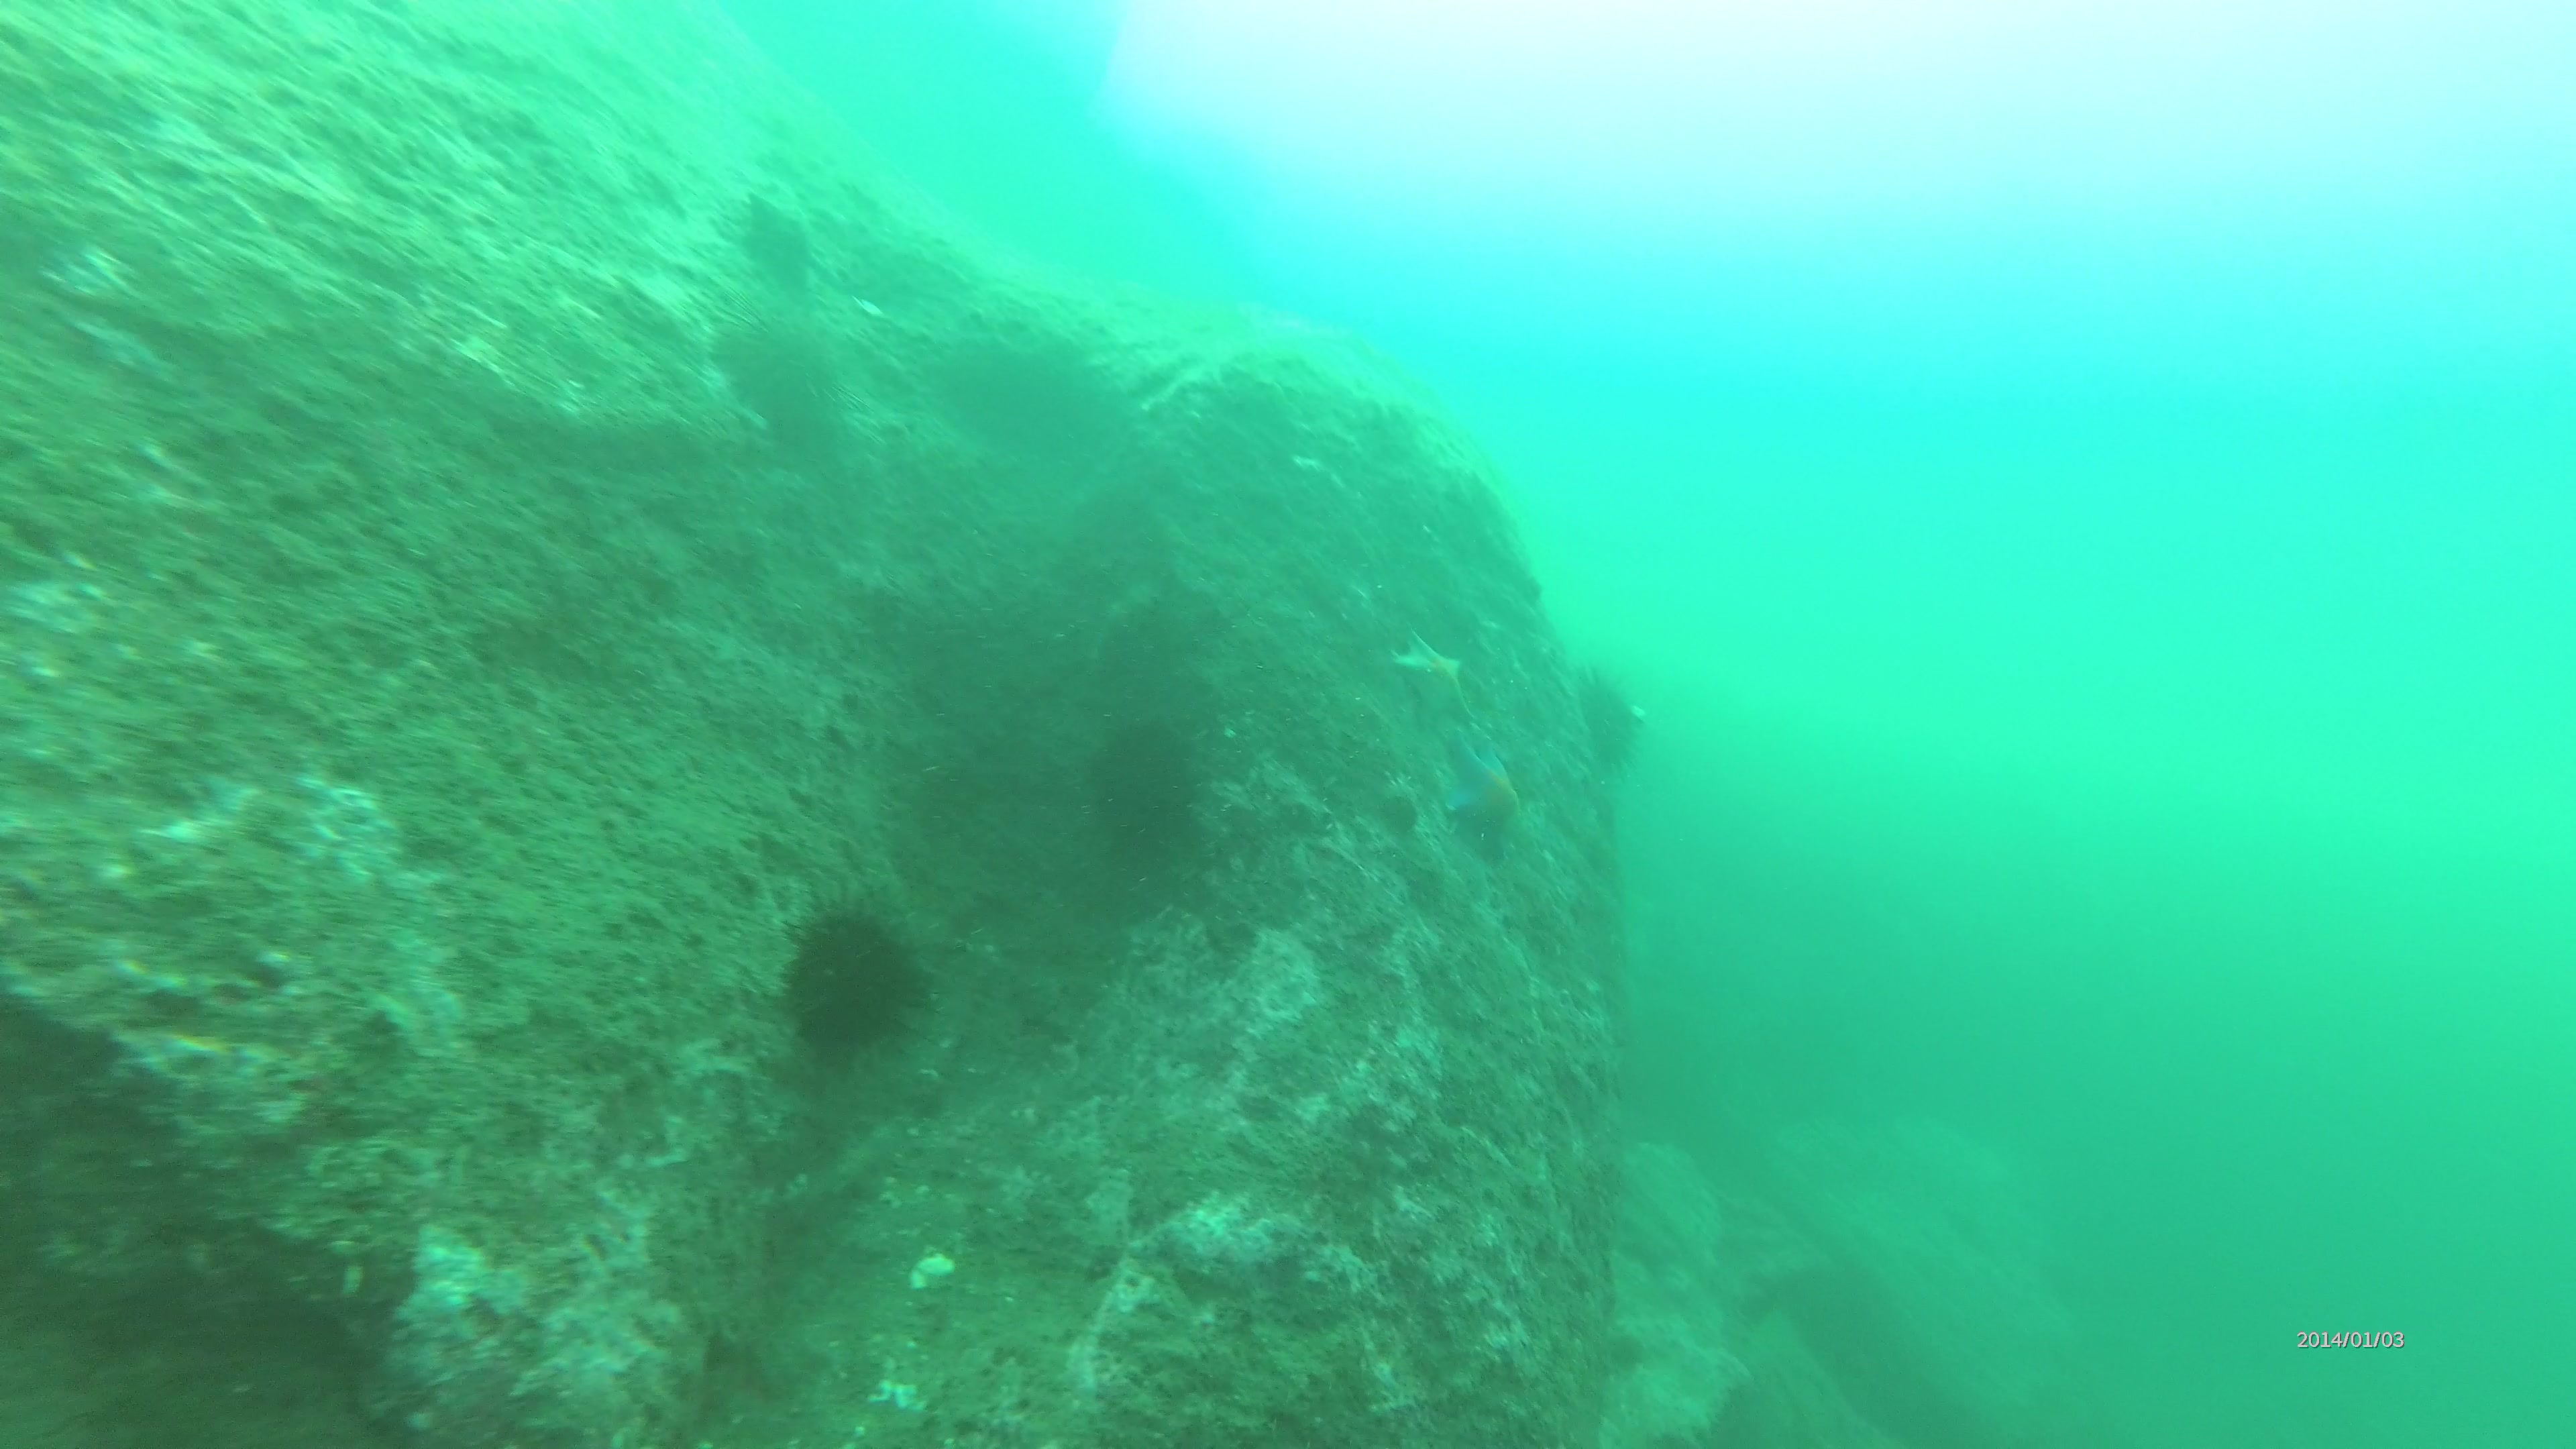echinus: (764, 881, 943, 1069), (711, 294, 856, 449), (1079, 709, 1214, 858), (1571, 655, 1647, 770)
starfish: (1437, 729, 1522, 847), (1385, 619, 1476, 718), (732, 186, 823, 276)
